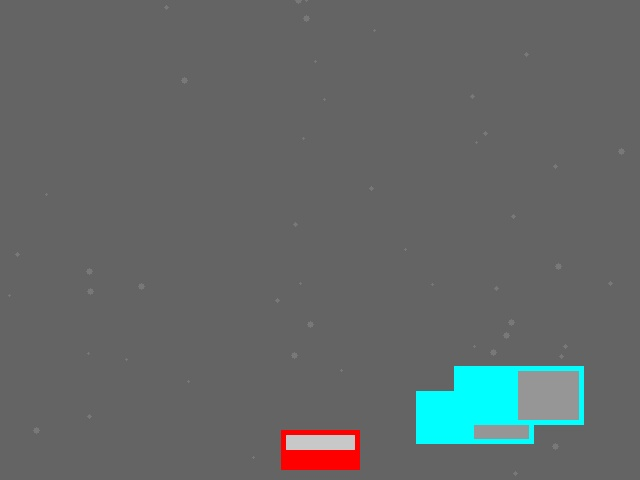car: (281, 430, 359, 469)
truck: (454, 366, 583, 424), (416, 391, 533, 443)
